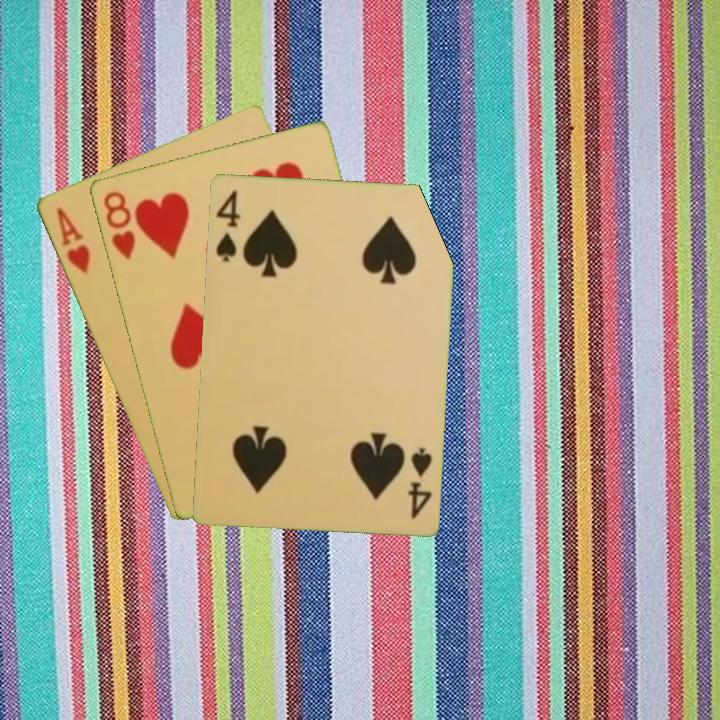4s: (212, 186, 243, 265), (403, 443, 434, 521)
8h: (99, 187, 138, 262)
Ah: (52, 203, 93, 276)
